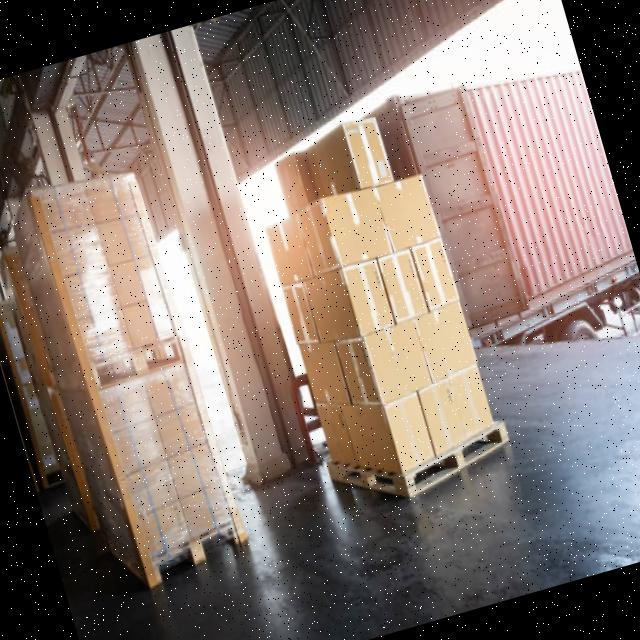Wooden-Pallets: (323, 409, 518, 504), (89, 328, 190, 403)
